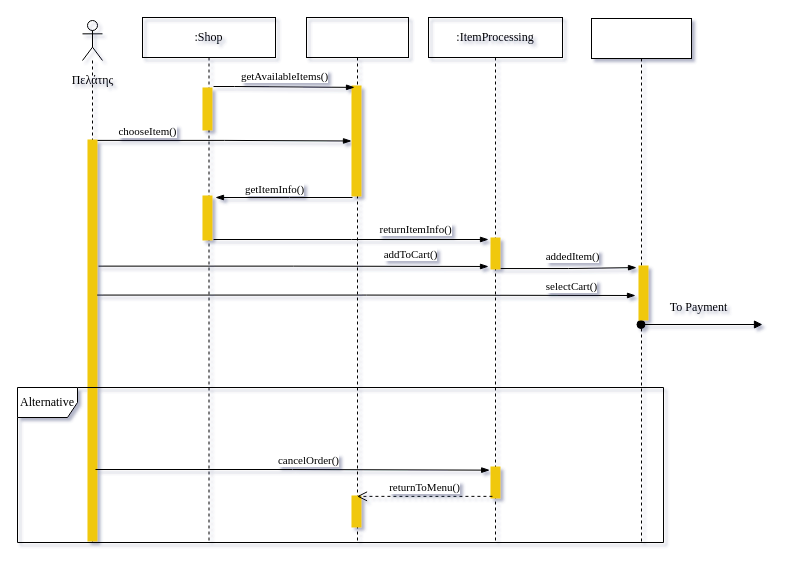
The diagram is 797 pixels wide and 567 high, and some of its shapes have lost their labels. The shapes that lost their labels are listed below. From the top down, each one's box as (x1, y1, x2, y2) in pixels, then its label:
(306, 16, 408, 544): :Menu
(590, 18, 692, 542): :Cart
